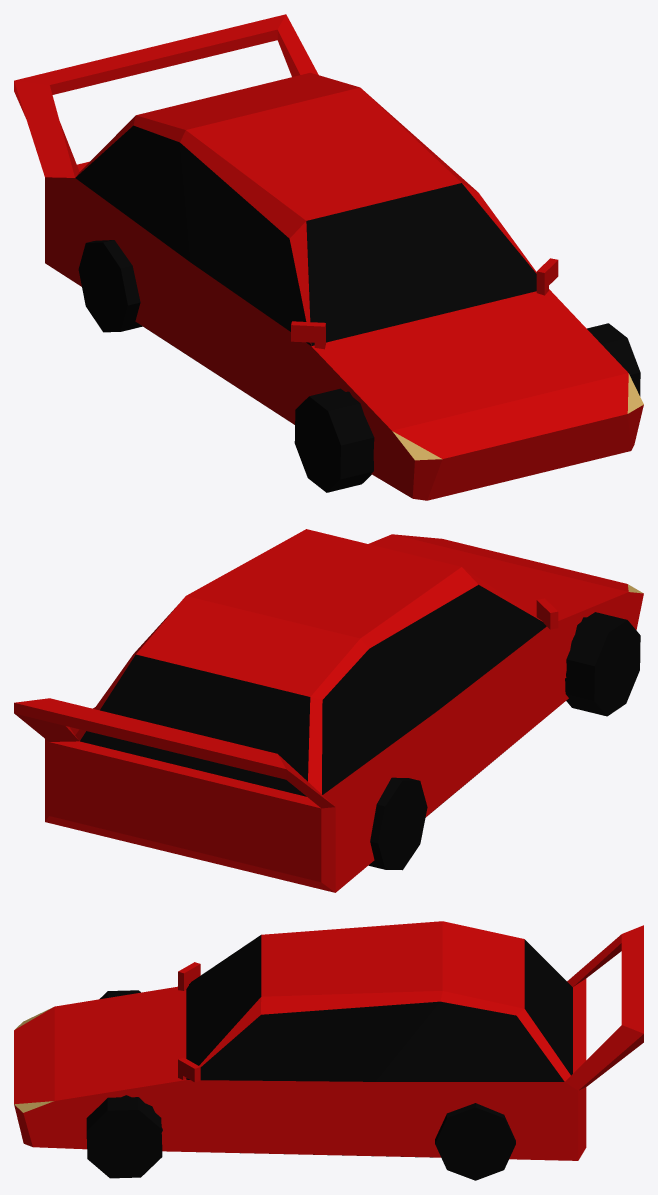
The model's file is car.obj.
3 views of the same model, one above another, from view 1: azimuth 30°, elevation 25°; view 2: azimuth 150°, elevation 25°; view 3: azimuth 270°, elevation 25° (orthographic). The views are drawn at different scales.
Visible parts, largest first — view 1: Cube.015_Cube.028, Cylinder.001_Cylinder.010, Cylinder.012_Cylinder.018; view 2: Cube.015_Cube.028, Cylinder.001_Cylinder.010, Cylinder.012_Cylinder.018; view 3: Cube.015_Cube.028, Cylinder.001_Cylinder.010, Cylinder.012_Cylinder.018.
Boxes of the visible parts, box(x1,y1,x2,y2) form: Cube.015_Cube.028: box(14, 14, 643, 500); Cylinder.001_Cylinder.010: box(294, 323, 640, 492); Cylinder.012_Cylinder.018: box(78, 240, 142, 332); Cube.015_Cube.028: box(14, 529, 643, 892); Cylinder.001_Cylinder.010: box(565, 612, 640, 716); Cylinder.012_Cylinder.018: box(368, 777, 427, 870); Cube.015_Cube.028: box(14, 921, 643, 1160); Cylinder.001_Cylinder.010: box(86, 990, 162, 1178); Cylinder.012_Cylinder.018: box(435, 1103, 515, 1180).
Bounding box in the file's own units: 2.03 × 1.31 × 4.52.
